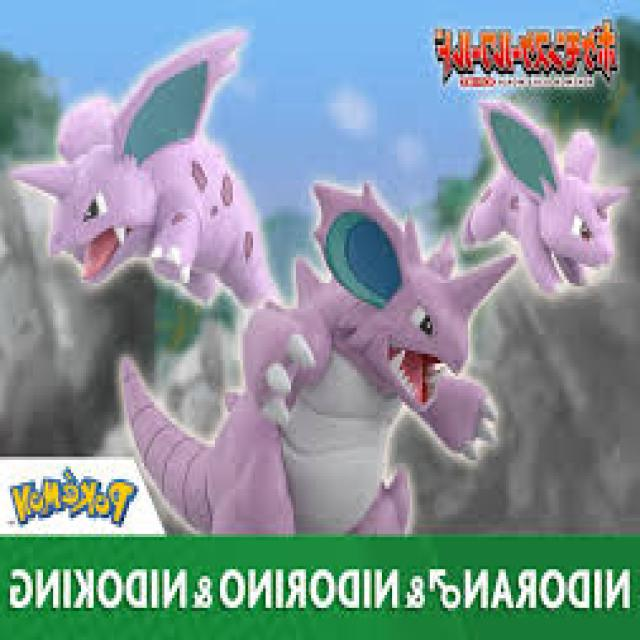Nidoking: (232, 203, 472, 538)
Nidorino: (39, 48, 275, 286), (480, 111, 613, 272)
